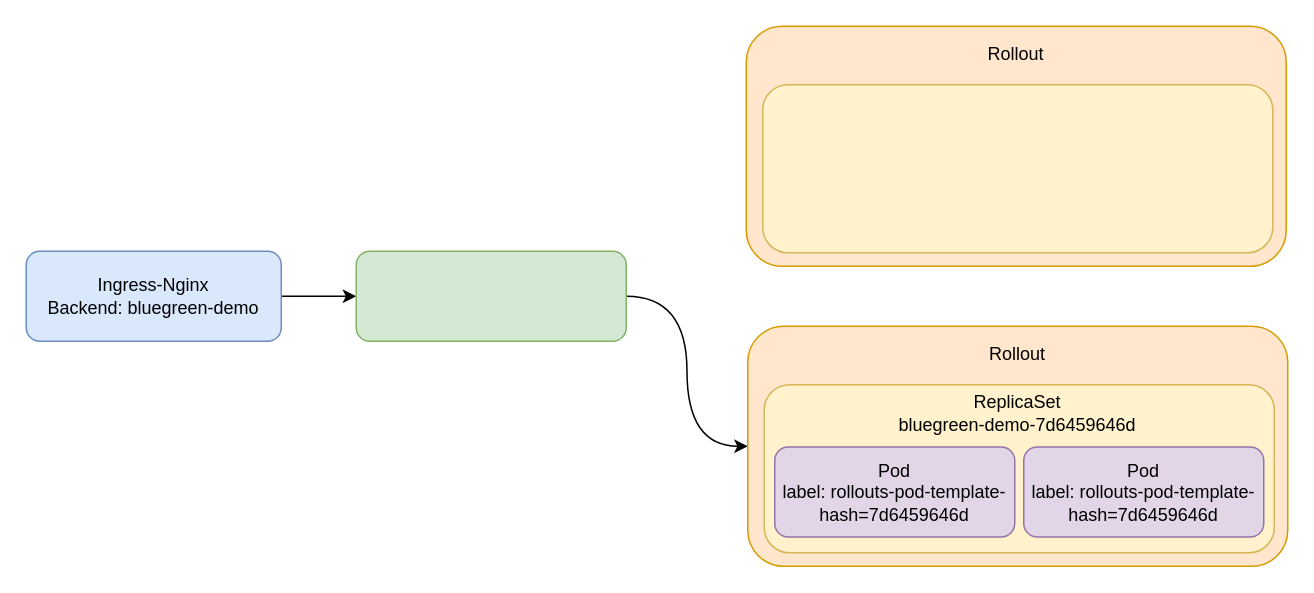
Image size: 1314x593. Some labels were removed from this diagram. The shapes that lost their labels are listed below. From the top down, each one's centre as x and y in pixels, then its label:
pixel 1017 168: ReplicaSet bluegreen-demo-fbc7b7f55
pixel 490 295: Service Selector: rollouts-pod-template-hash=7d6459646d
